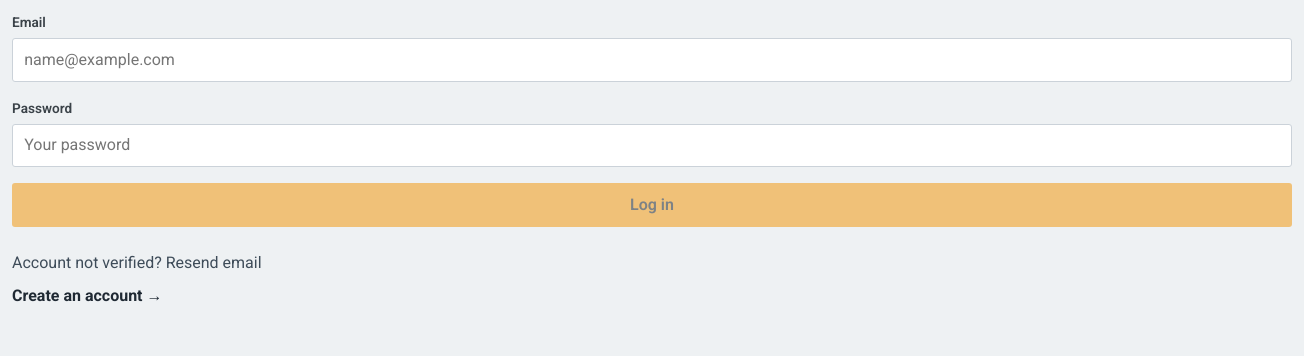
Test case: LoginForm › shows an error when credentials are rejected
In the field labelled "Email": (652, 60) [12,38,1292,82], type "ana@example.com"
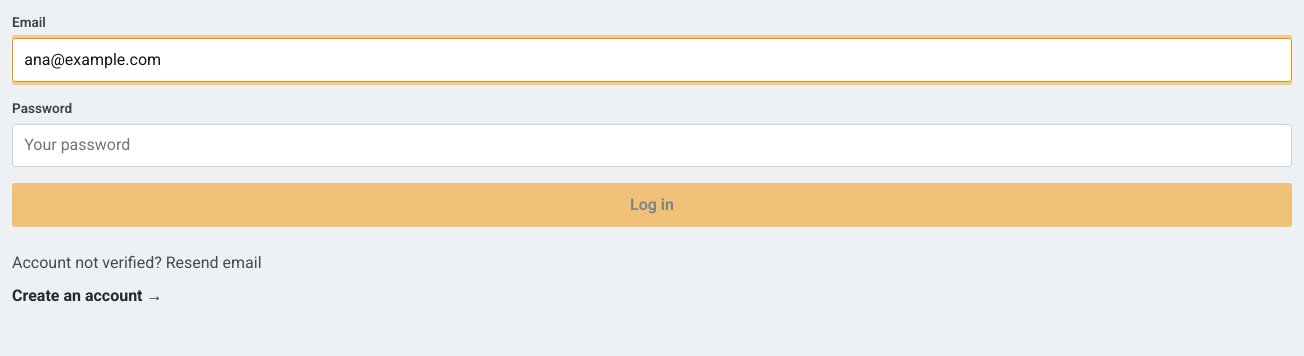
In the password field labelled "Password": (652, 145) [12,124,1292,167], type "password123"
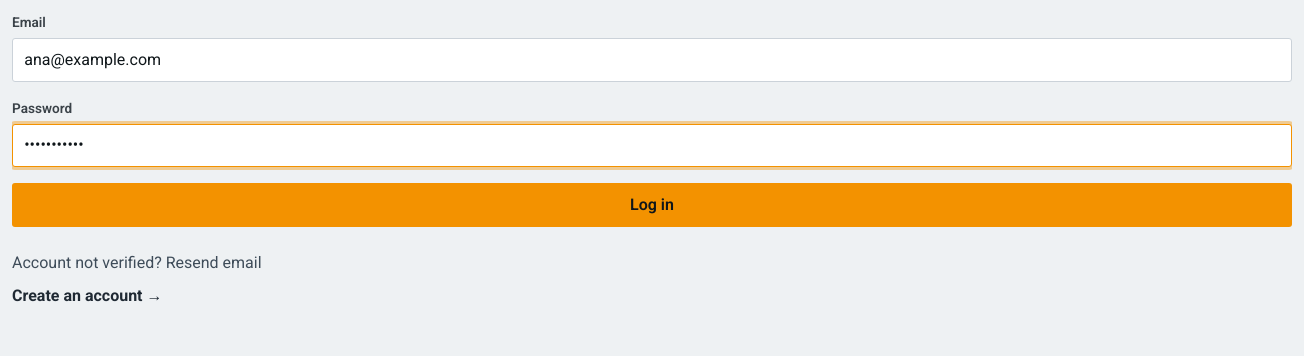
Click the button "Log in": (652, 205) [12,183,1292,227]
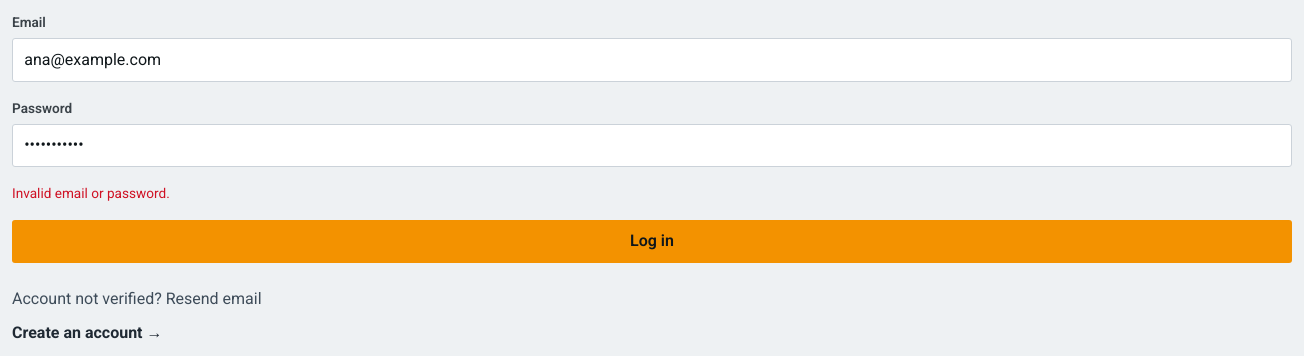
expect the message reads "Invalid email or password.": met, box [12,185,170,201]
